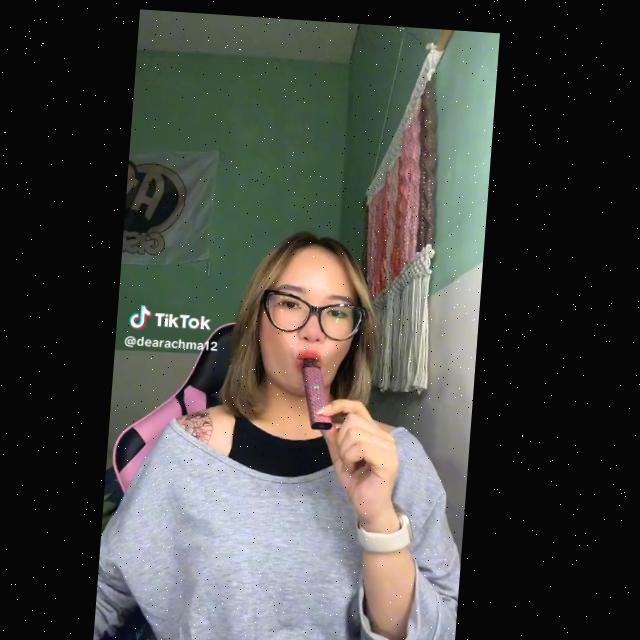vape: (302, 350, 343, 426)
